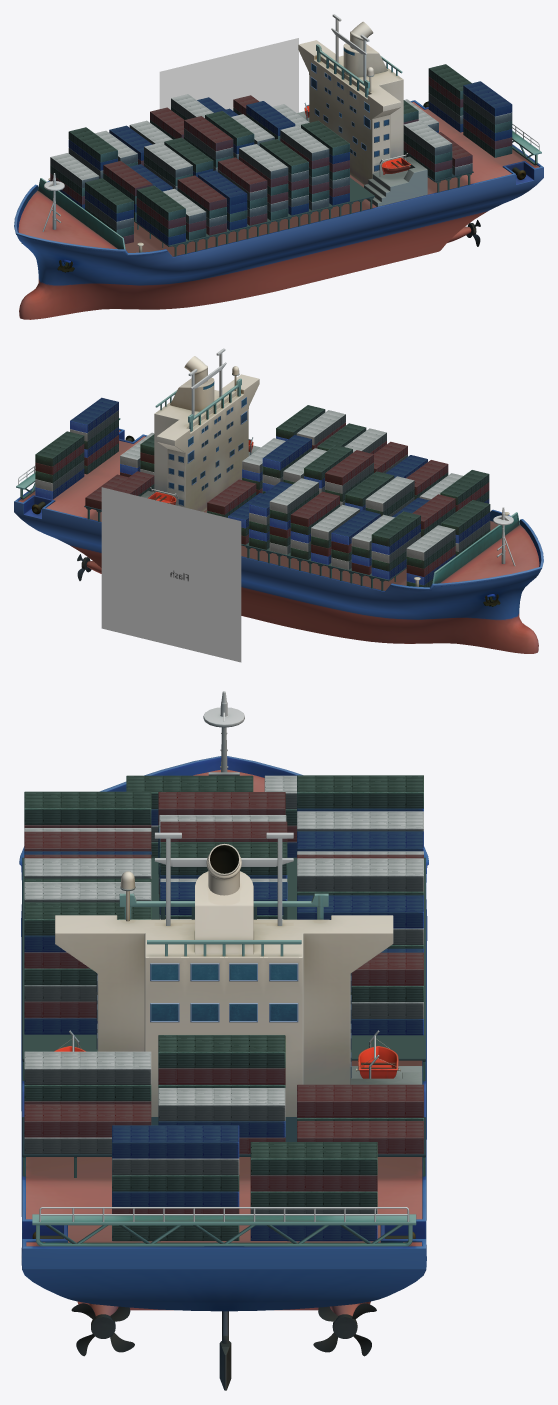
3 views of the same model, one above another, from view 1: azimuth 30°, elevation 25°; view 2: azimuth 150°, elevation 25°; view 3: azimuth 270°, elevation 25° (orthographic). The views are drawn at different scales.
Visible parts, largest first — view 1: node_id55, mesh_id1; view 2: node_id55, mesh_id1; view 3: node_id55.
Boxes of the visible parts, x1,y1,x2,y2 form: node_id55: (14, 14, 543, 319); mesh_id1: (159, 38, 298, 112); node_id55: (14, 348, 543, 653); mesh_id1: (101, 487, 241, 662); node_id55: (19, 691, 428, 1390).
Size of the model in its own units: 1.2 by 0.512 by 0.5526.
Materials: 2 (2 with a texture image).
